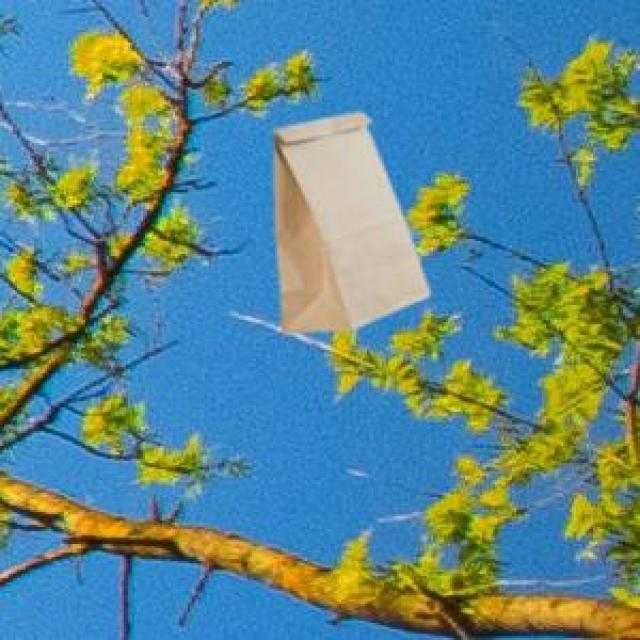paper: (269, 109, 425, 326)
